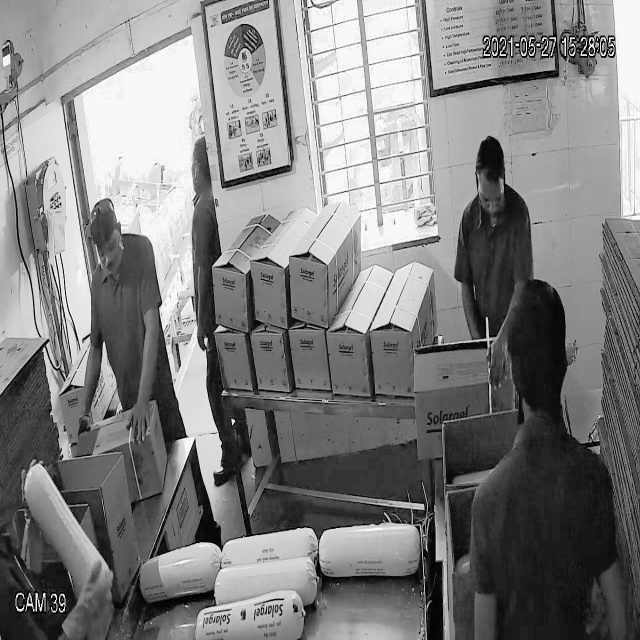Sin_gafas: (88, 234, 127, 261), (475, 187, 508, 212)
